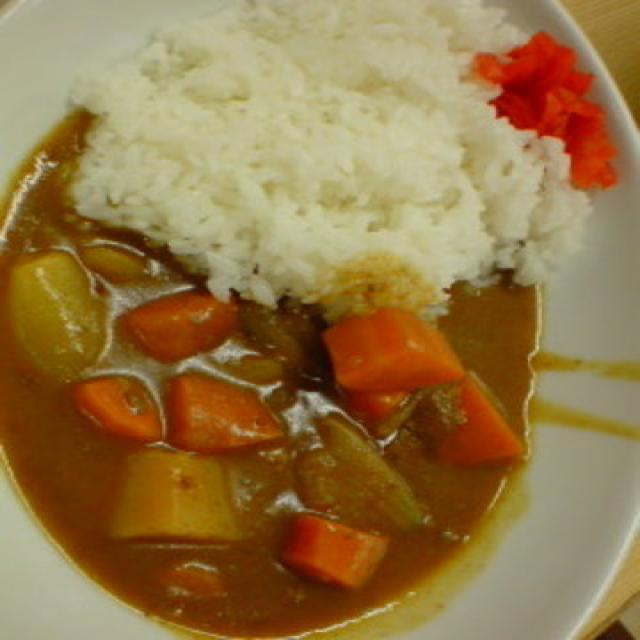Beef Curry: (0, 247, 530, 627)
Rice: (84, 0, 504, 238)
